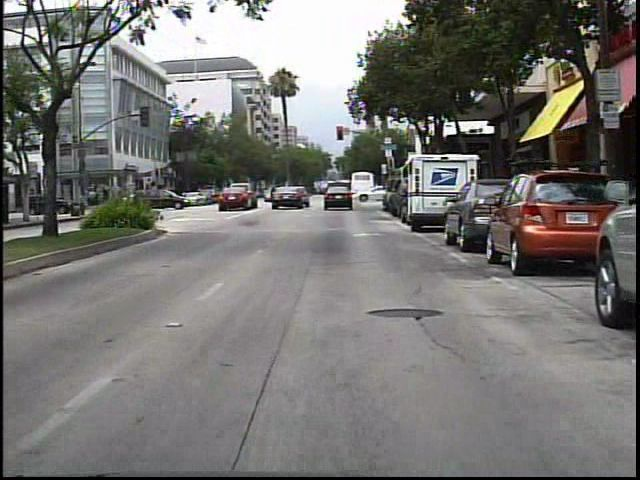person: (265, 182, 279, 206)
